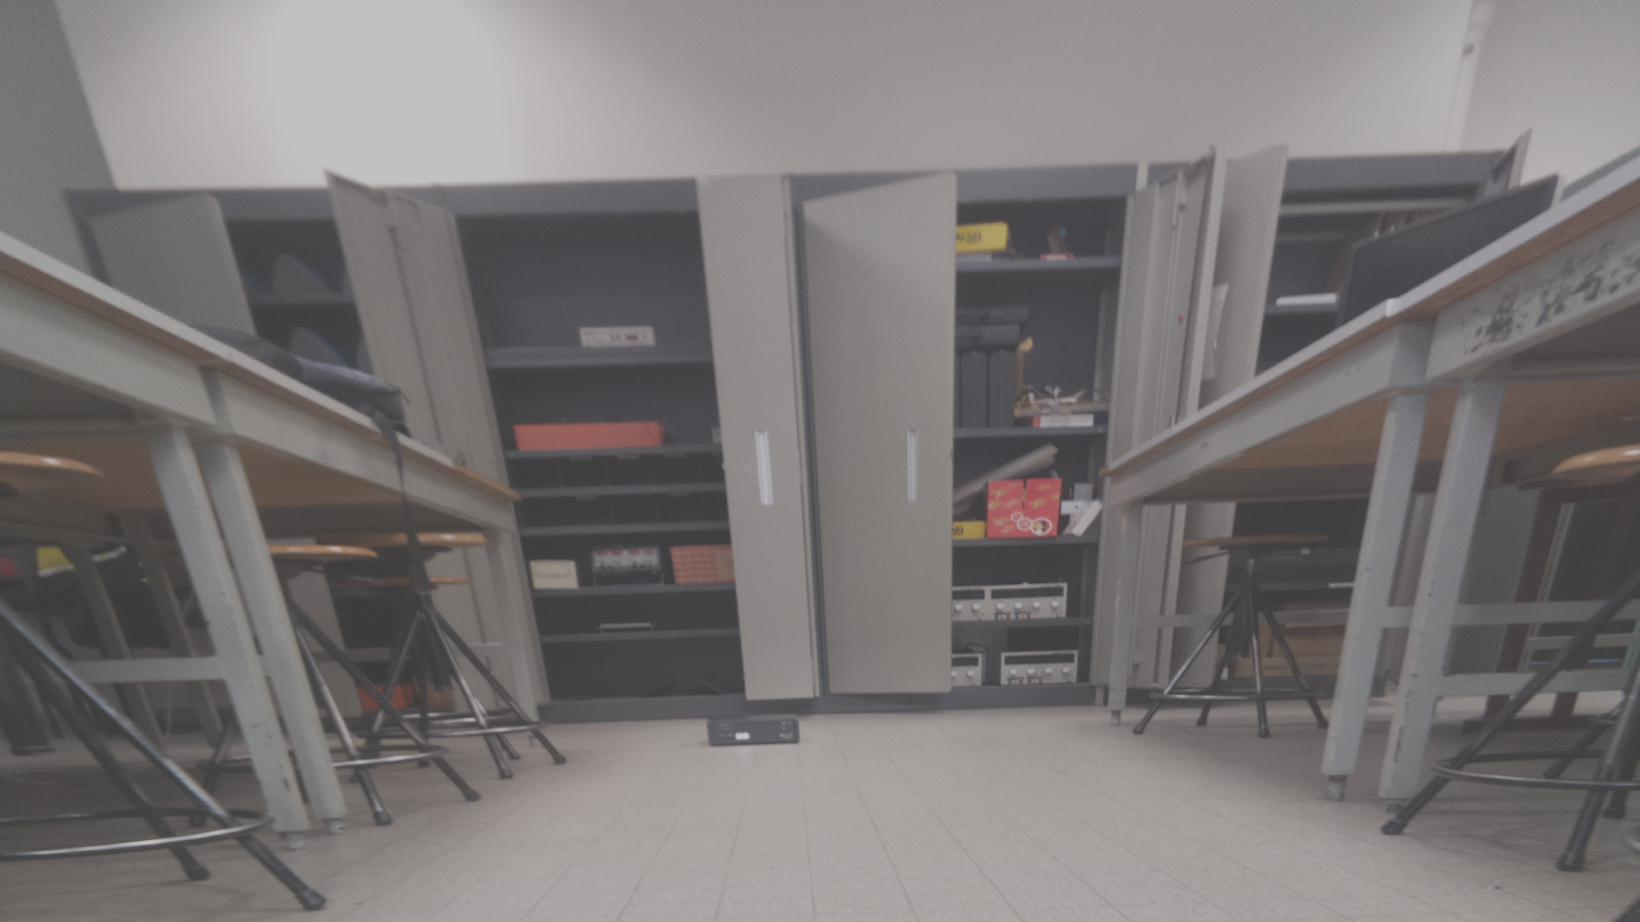medium: (706, 711, 800, 745)
